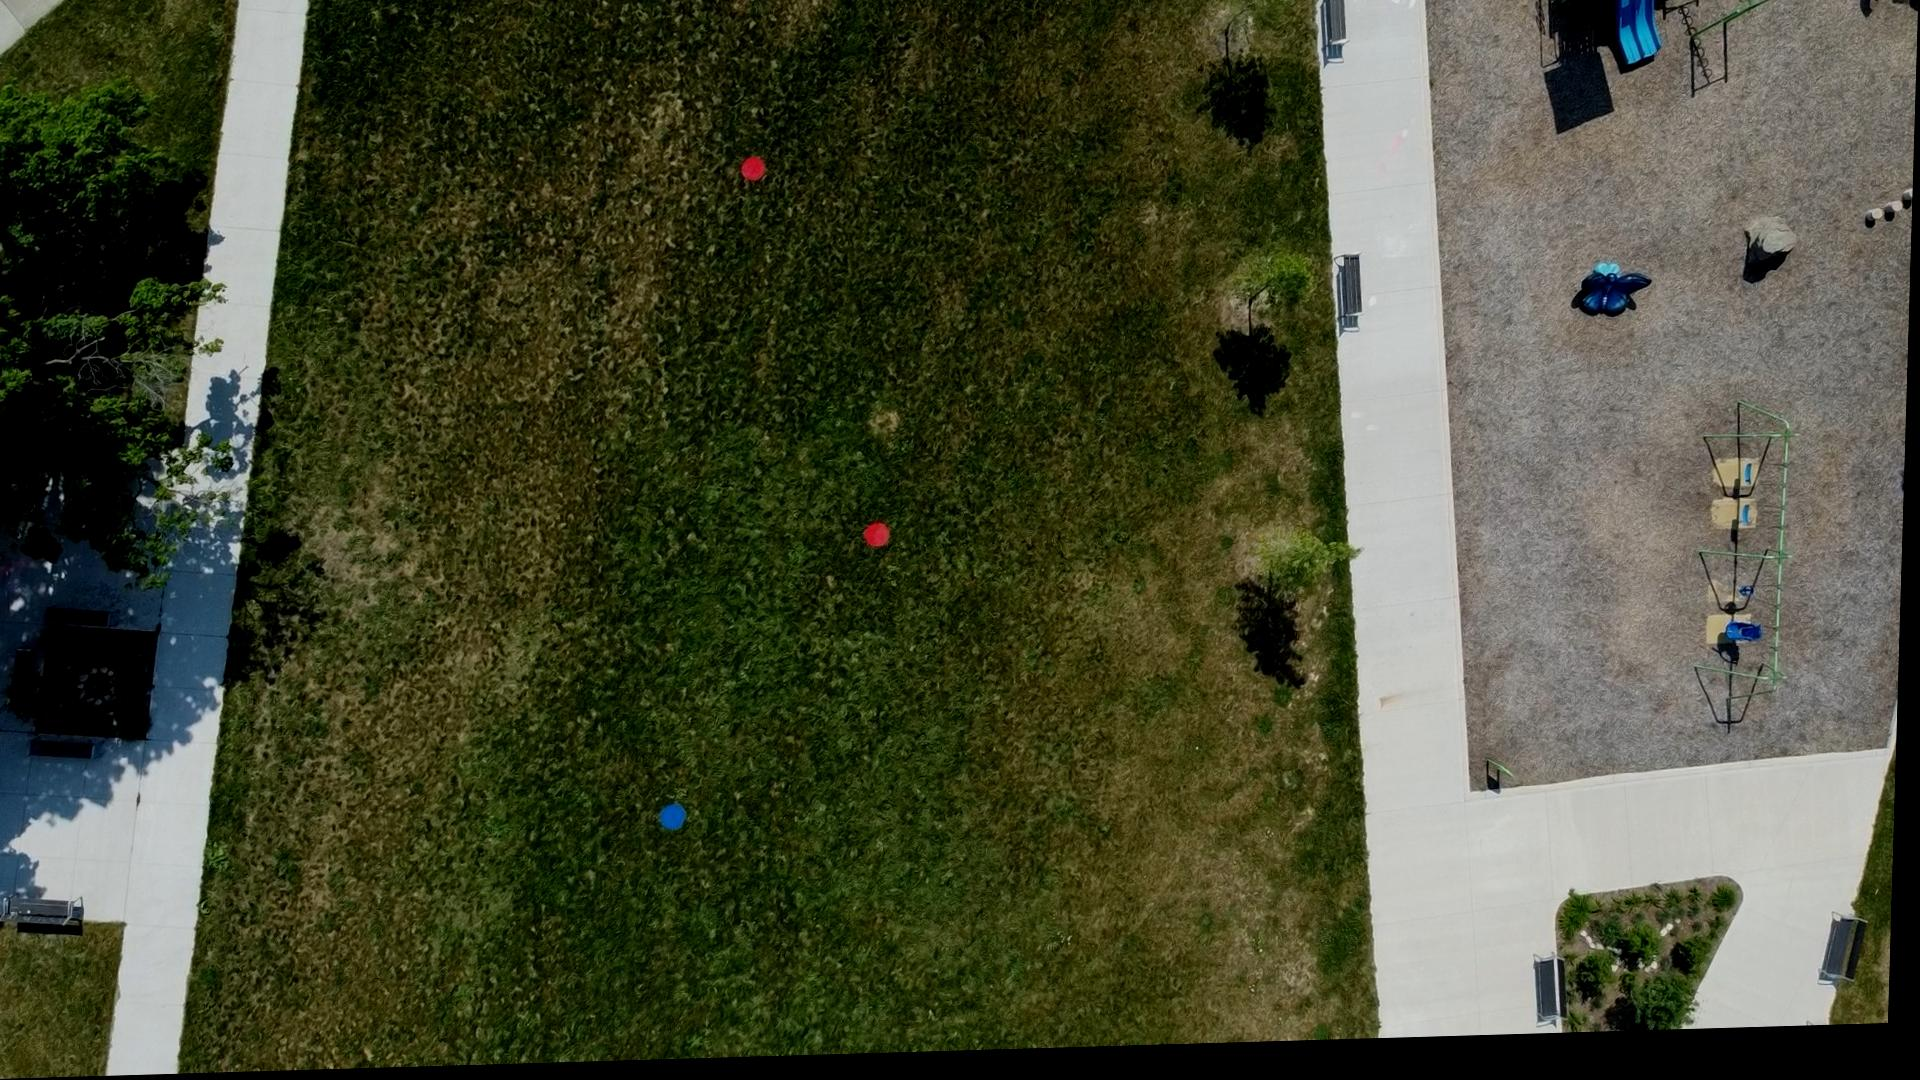Blue: (663, 807, 692, 836)
Red: (865, 526, 894, 555), (741, 160, 769, 187)
